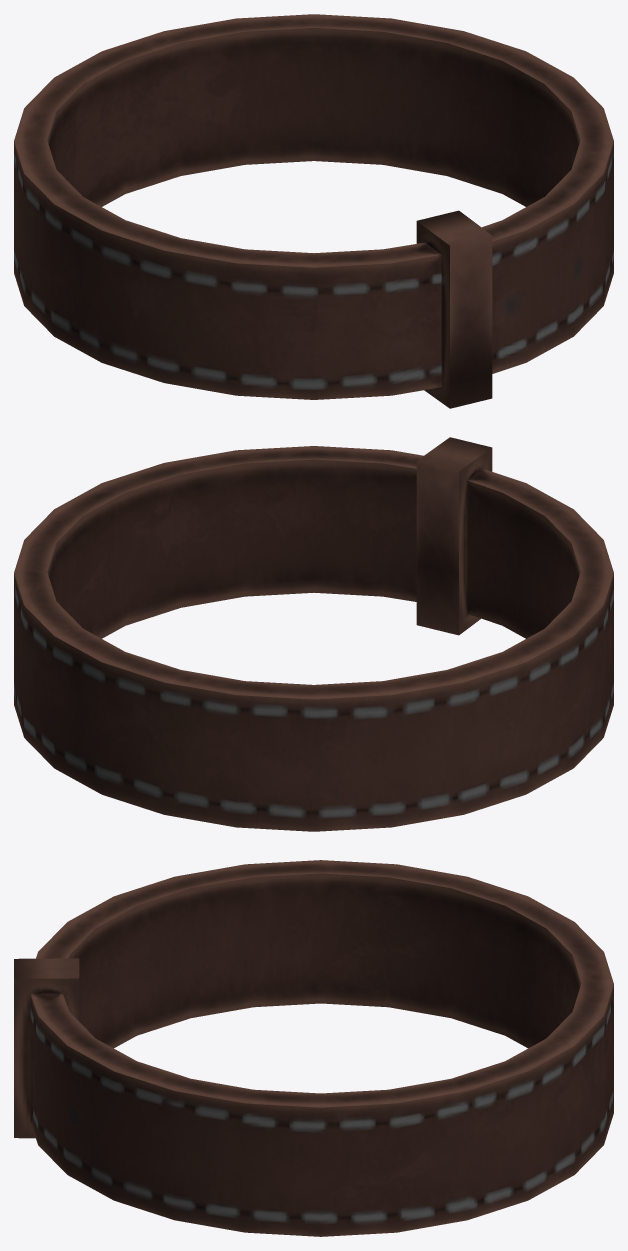
Rendered from FullStrap_Small.fbx.
3 views of the same model, one above another, from view 1: azimuth 30°, elevation 25°; view 2: azimuth 150°, elevation 25°; view 3: azimuth 270°, elevation 25° (orthographic). The views are drawn at different scales.
Visible parts, largest first — view 1: FullStrap_Small_LOD0; view 2: FullStrap_Small_LOD0; view 3: FullStrap_Small_LOD0.
Part boxes in pixels (bbox=[...]): FullStrap_Small_LOD0: bbox=[14, 14, 613, 408]; FullStrap_Small_LOD0: bbox=[14, 437, 613, 831]; FullStrap_Small_LOD0: bbox=[14, 860, 613, 1236].
Size of what is drawn, in the model's own units: 56.09 by 16.94 by 57.44.
